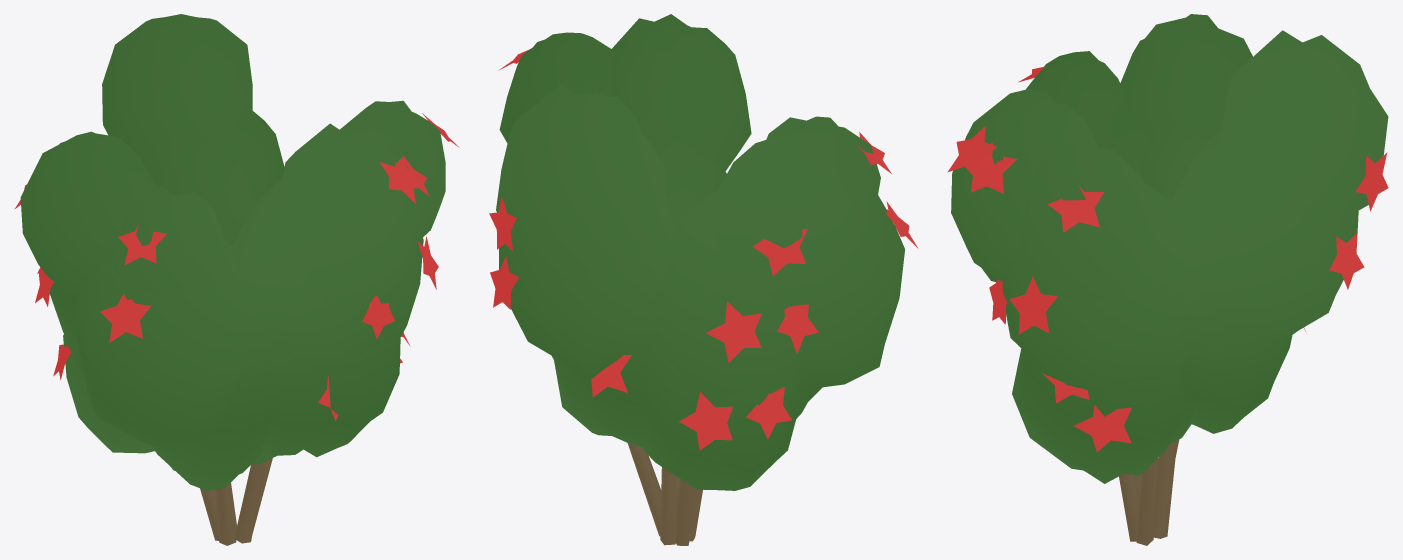
Rendered from Blender_Hibiscus_1.glb.
3 views of the same model, side by side, from view 1: azimuth 30°, elevation 25°; view 2: azimuth 150°, elevation 25°; view 3: azimuth 270°, elevation 25° (orthographic). The views are drawn at different scales.
Visible parts, largest first — view 1: Blender_Hibiscus_1; view 2: Blender_Hibiscus_1; view 3: Blender_Hibiscus_1.
Boxes of the visible parts, box(x1,y1,x2,y2) form: Blender_Hibiscus_1: box(14, 14, 459, 545); Blender_Hibiscus_1: box(489, 14, 918, 545); Blender_Hibiscus_1: box(947, 14, 1388, 545).
Size of the model in its own units: 2.1 by 2.53 by 2.01.
